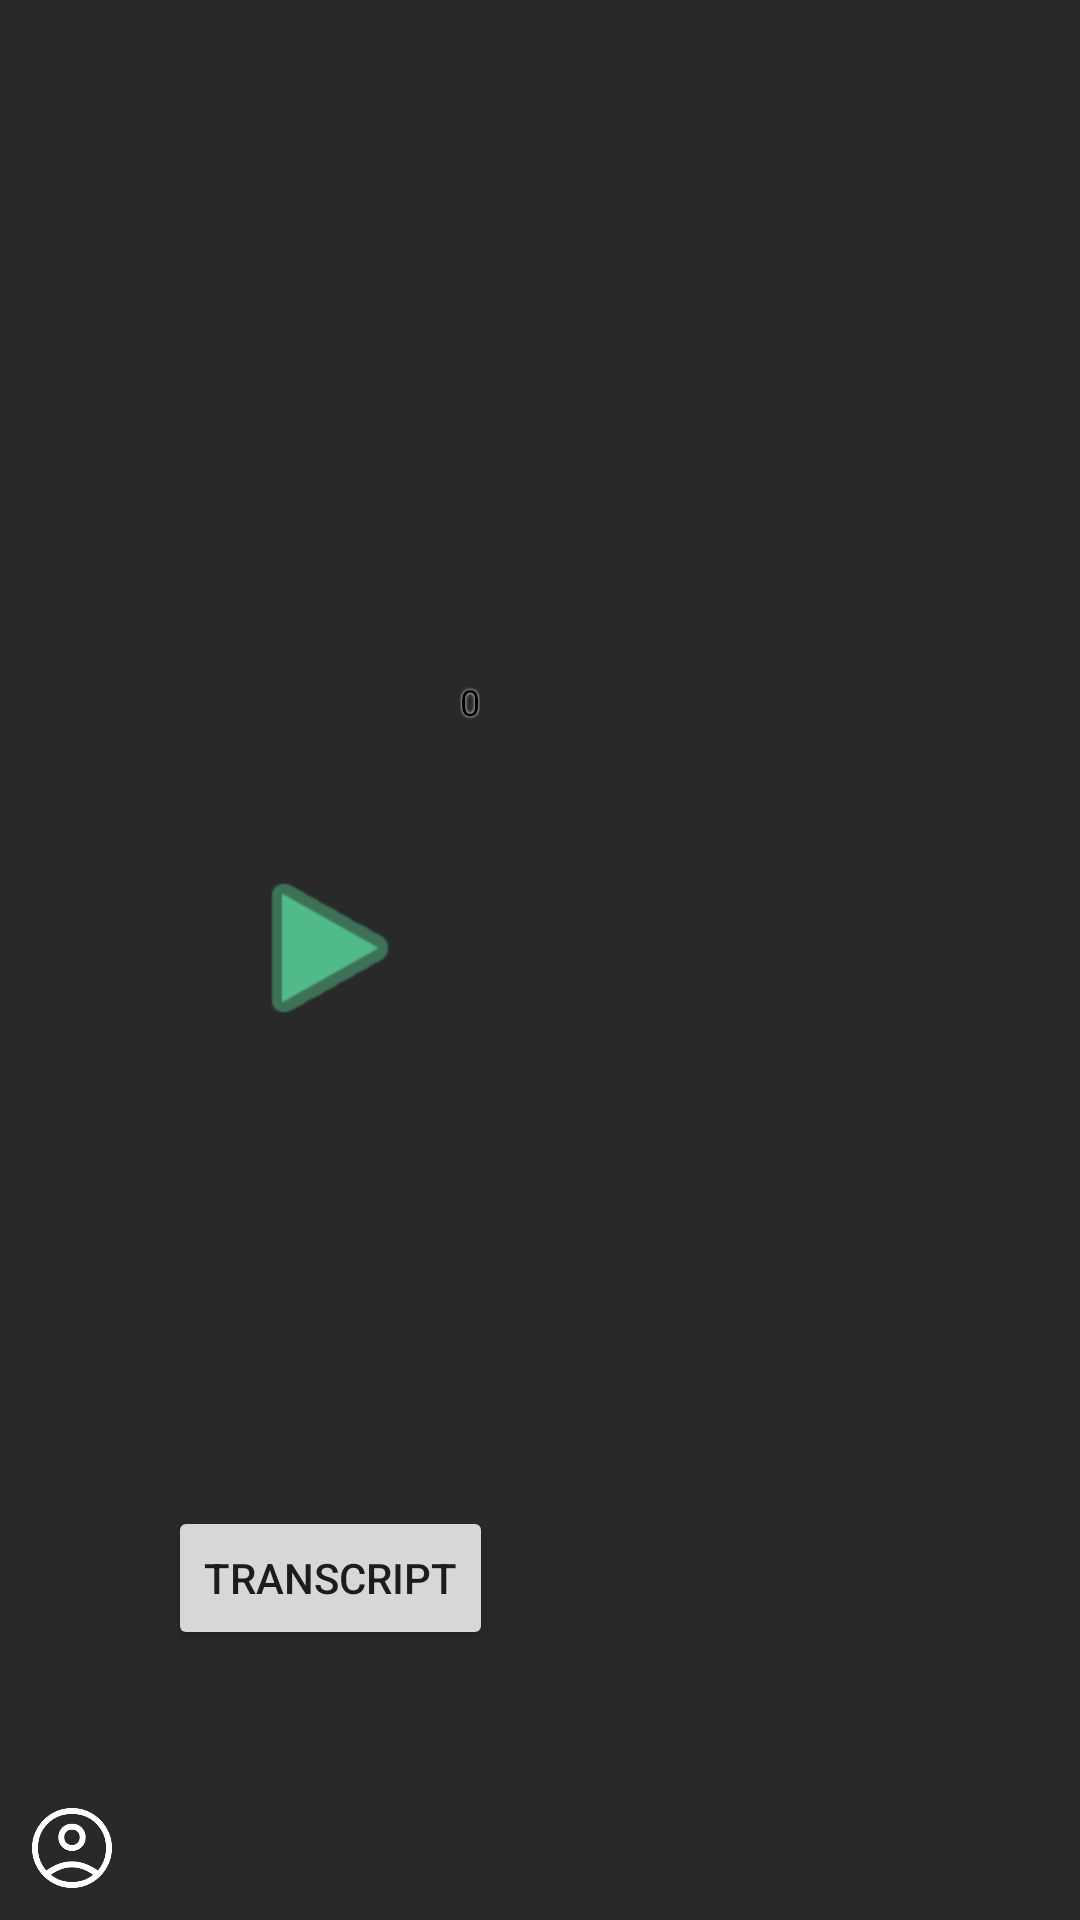

Where icons sit on this 1080×1920 app screen, as bbox=(x1, y1, x2, y2):
account: bbox=(32, 1808, 112, 1888)
play: bbox=(272, 884, 388, 1012)
